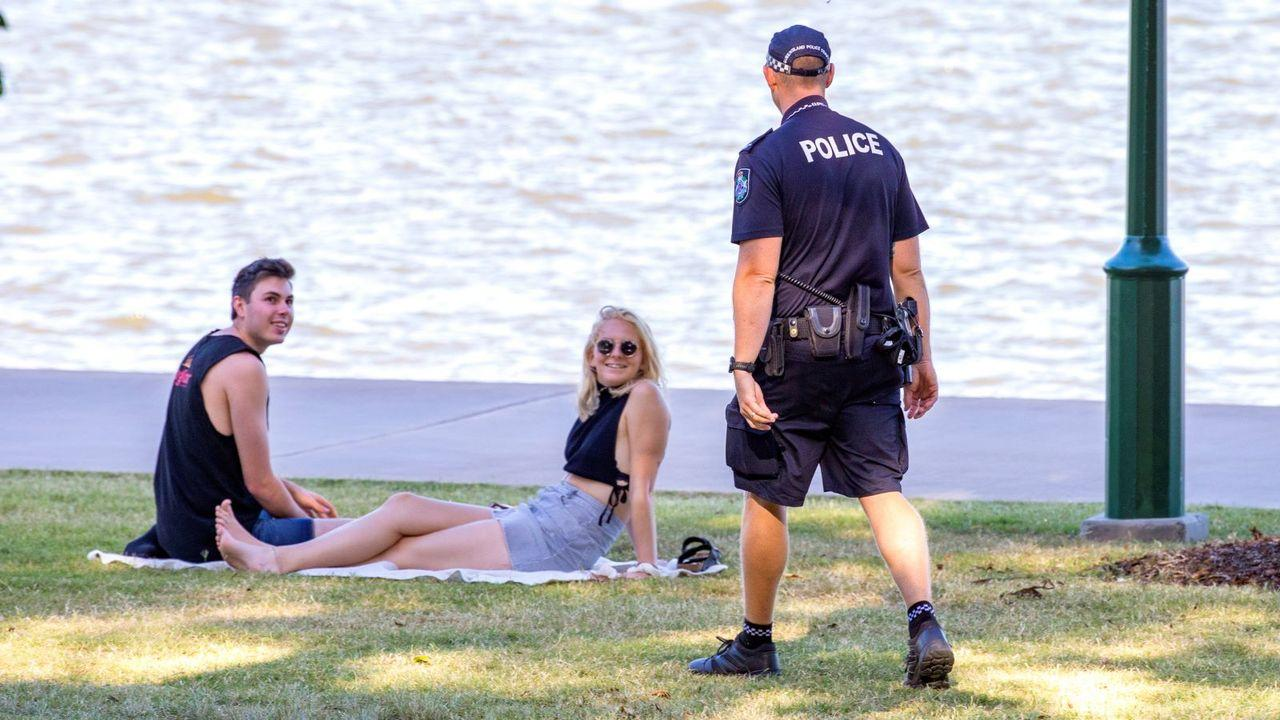Person: (690, 25, 955, 689), (336, 303, 670, 568), (156, 258, 333, 518)
